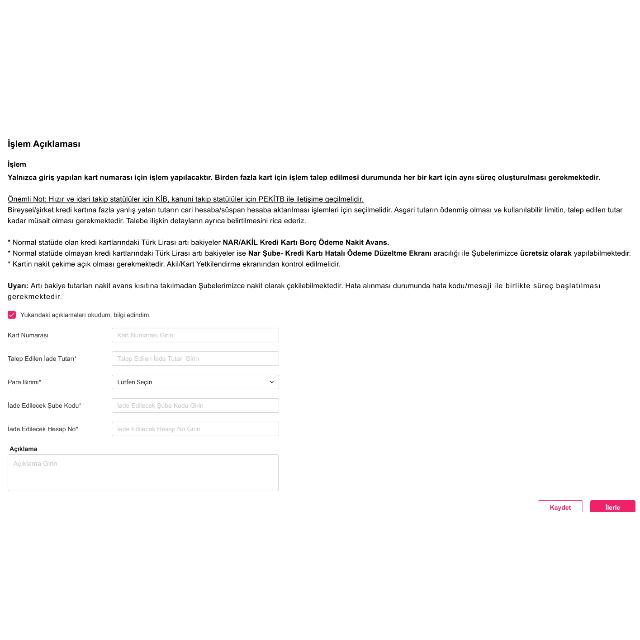QLabel: (6, 207, 624, 225), (7, 174, 601, 182), (7, 195, 365, 205), (30, 284, 602, 290), (6, 261, 342, 269), (7, 249, 247, 257), (7, 239, 221, 247), (248, 250, 432, 258), (222, 240, 392, 247), (7, 138, 82, 150), (20, 313, 152, 319), (7, 402, 83, 412), (7, 426, 79, 434), (7, 355, 77, 363), (574, 250, 630, 258), (6, 294, 62, 302), (520, 250, 572, 258), (6, 332, 49, 340), (434, 252, 518, 256), (6, 379, 42, 387), (8, 447, 40, 453), (7, 282, 29, 290), (7, 160, 27, 168), (550, 506, 570, 512), (606, 505, 620, 511)
VBtn: (537, 501, 583, 513), (590, 501, 636, 513)
VCheckbox: (6, 310, 18, 320)
VCombobox: (112, 376, 278, 390)
VTextField: (111, 328, 279, 344), (112, 398, 280, 414), (111, 422, 279, 438), (111, 352, 279, 366)
VTextarea: (7, 454, 279, 494)
